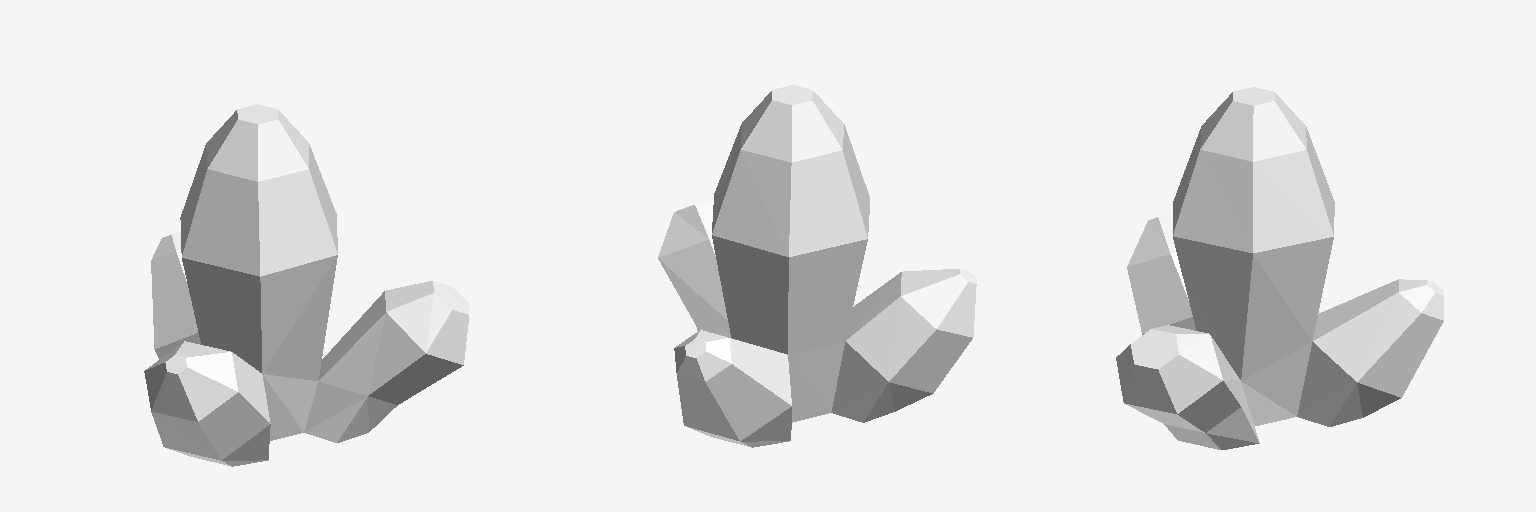
Rendered from crystal_generated.obj.
The picture shows the model from 3 angles: view 1: azimuth 30°, elevation 25°; view 2: azimuth 150°, elevation 25°; view 3: azimuth 270°, elevation 25°; orthographic projection.
Visible parts, largest first — view 1: Cube1; view 2: Cube1; view 3: Cube1.
Boxes of the visible parts, box(x1,y1,x2,y2) form: Cube1: box(144, 104, 468, 466); Cube1: box(658, 85, 976, 447); Cube1: box(1116, 87, 1443, 449).
Size of the model in its own units: 0.8296 by 0.789 by 0.7596.